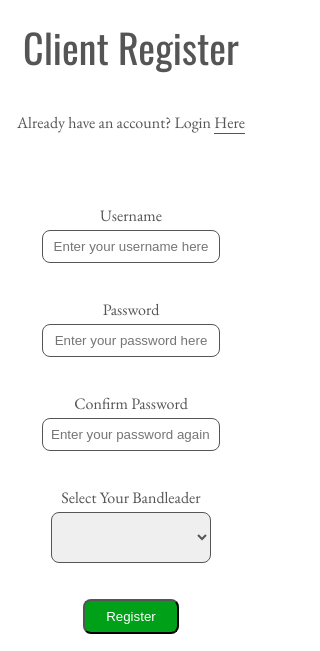
Scenario: <ClientRegisterPage/> › Login link takes you to client login page
Expected: the heading "Client Register" is shown, top-left (23, 17), bottom-right (239, 77)
Click the link "Here".
click(230, 123)  # box top-left (214, 112), bottom-right (245, 134)
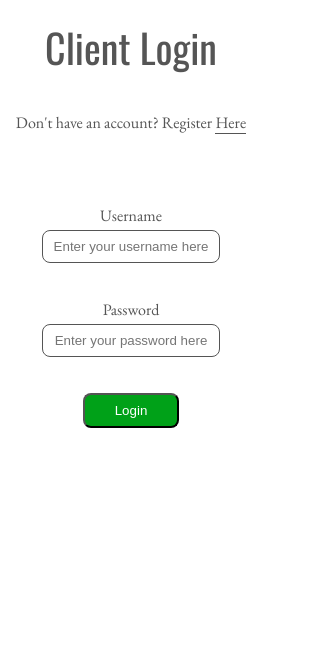
Now the heading "Client Login" is shown, box top-left (45, 17), bottom-right (217, 77)
